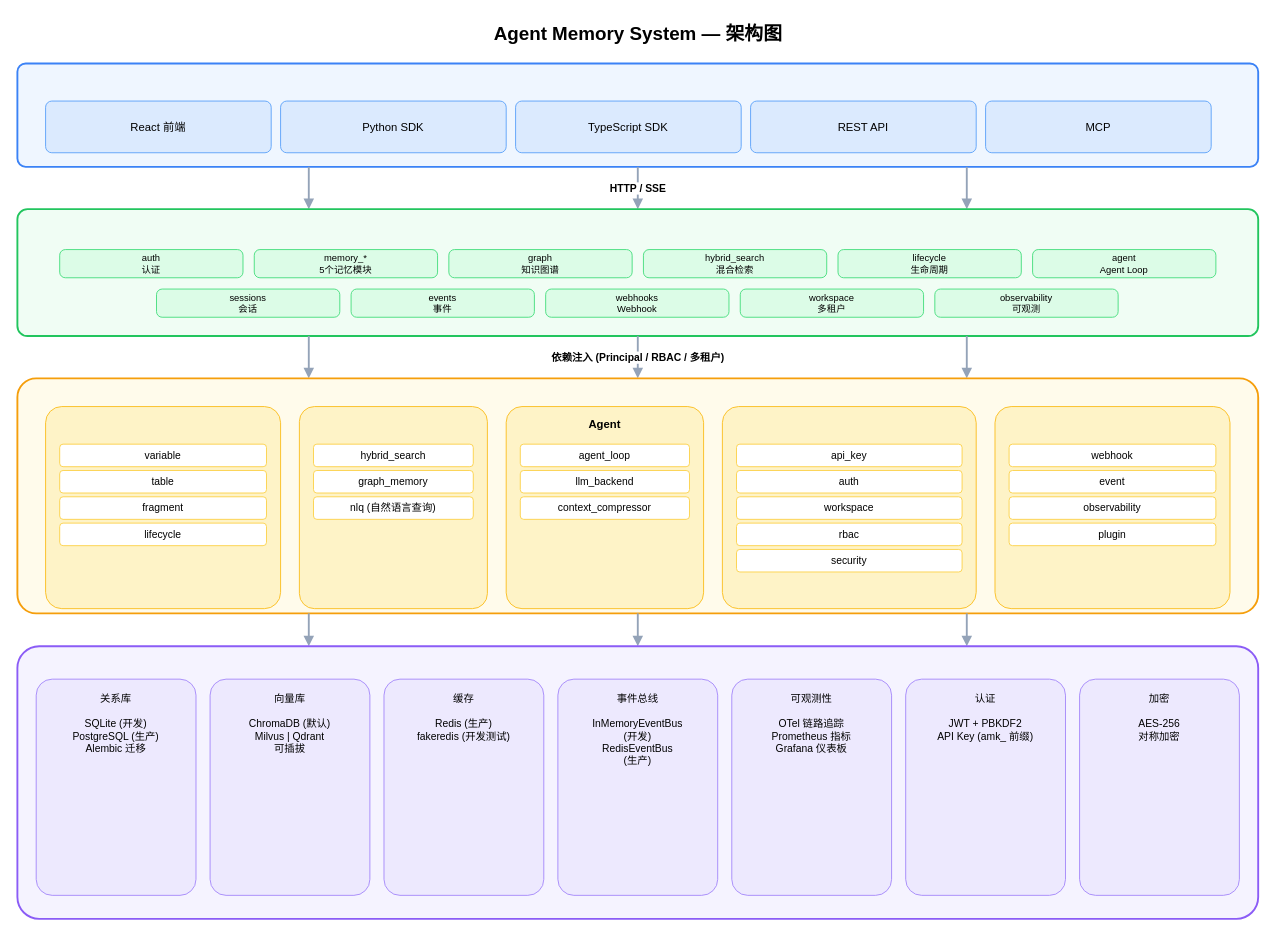
The diagram is 1275 pixels wide and 935 high, and some of its shapes have lost their labels. Each missing label, with the box of its shape:
API层 — FastAPI (19 个路由): (16, 208, 1259, 337)
基础设施: (721, 406, 976, 609)
基础设施层 — Infrastructure: (16, 645, 1259, 919)
扩展性: (994, 406, 1230, 609)
接入层 — Access Layer: (16, 62, 1259, 167)
服务层 — Service Layer (26+ 个服务模块): (16, 377, 1259, 614)
核心记忆: (45, 406, 281, 609)
检索与图: (298, 406, 487, 609)
